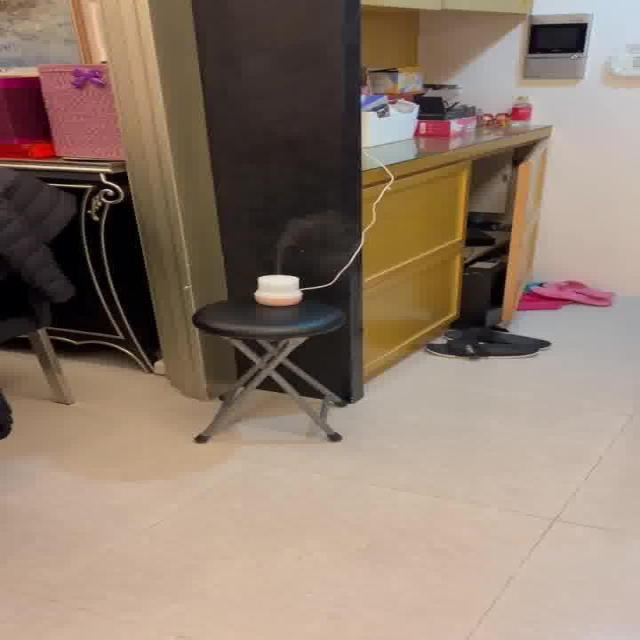fire: (266, 215, 341, 268)
